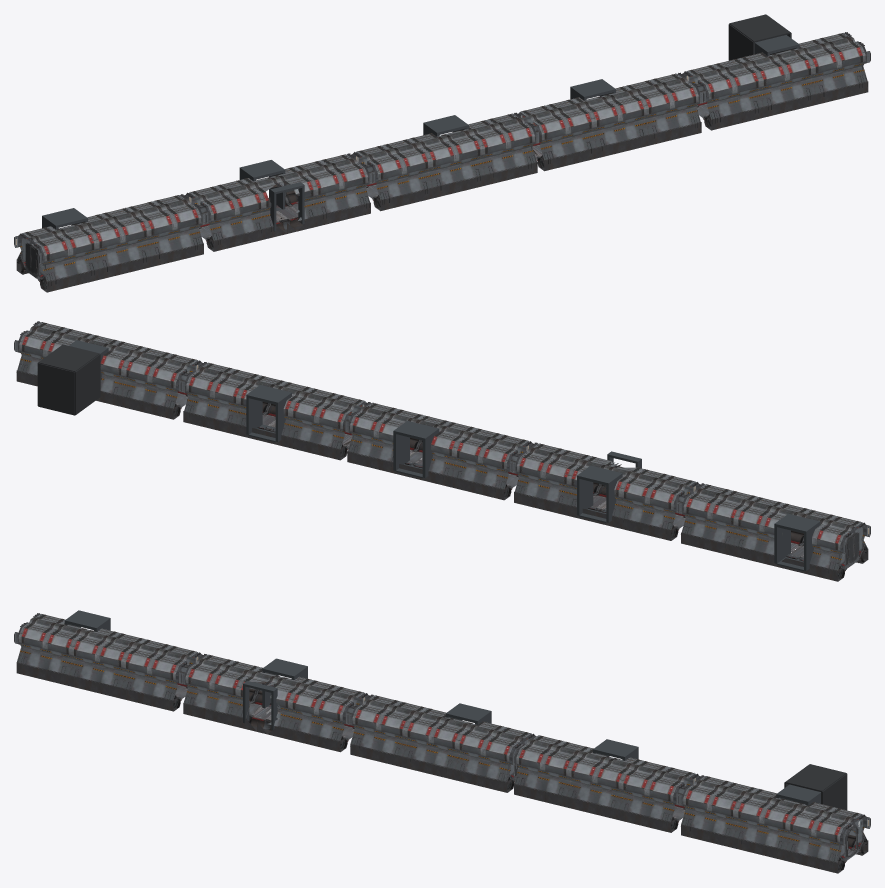
The model's file is hall.glb.
3 renders of one model, top to bottom at view 1: azimuth 30°, elevation 25°; view 2: azimuth 150°, elevation 25°; view 3: azimuth 330°, elevation 25°, orthographic.
Parts seen in each view (by area): view 1: HALL, HALL_E, air_ceil, air_w; view 2: HALL, HALL_E, air_n, air_w, air_ceil; view 3: HALL, HALL_E, air_ceil, air_e.
Part boxes in pixels (left/top/right/bottom): HALL: left=14, top=112, right=540, bottom=292; HALL_E: left=517, top=32, right=870, bottom=171; air_ceil: left=729, top=14, right=790, bottom=42; air_w: left=728, top=24, right=754, bottom=60; HALL: left=344, top=402, right=870, bottom=581; HALL_E: left=14, top=321, right=367, bottom=460; air_n: left=38, top=363, right=74, bottom=415; air_w: left=75, top=354, right=100, bottom=414; air_ceil: left=38, top=344, right=99, bottom=371; HALL: left=14, top=610, right=536, bottom=792; HALL_E: left=514, top=735, right=870, bottom=873; air_ceil: left=785, top=764, right=846, bottom=792; air_e: left=821, top=773, right=847, bottom=810.
Bounding box in the file's own units: 58.89 × 3.33 × 6.91.
14 materials, 11 textured.
